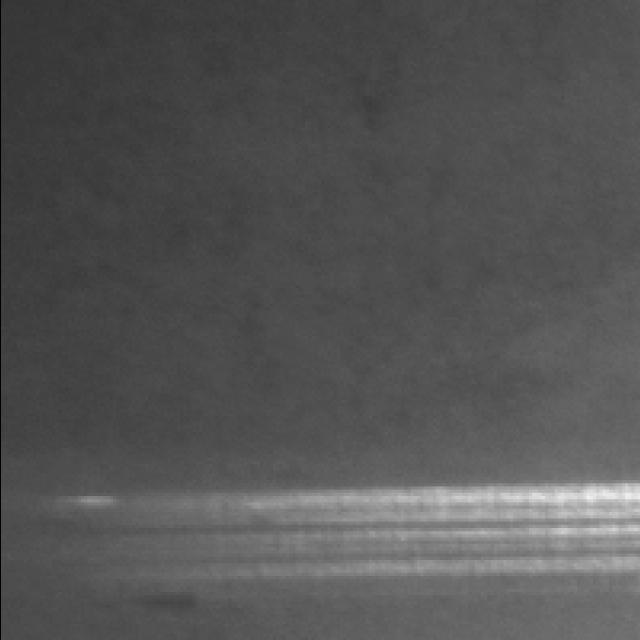scratches: (192, 483, 640, 585)
